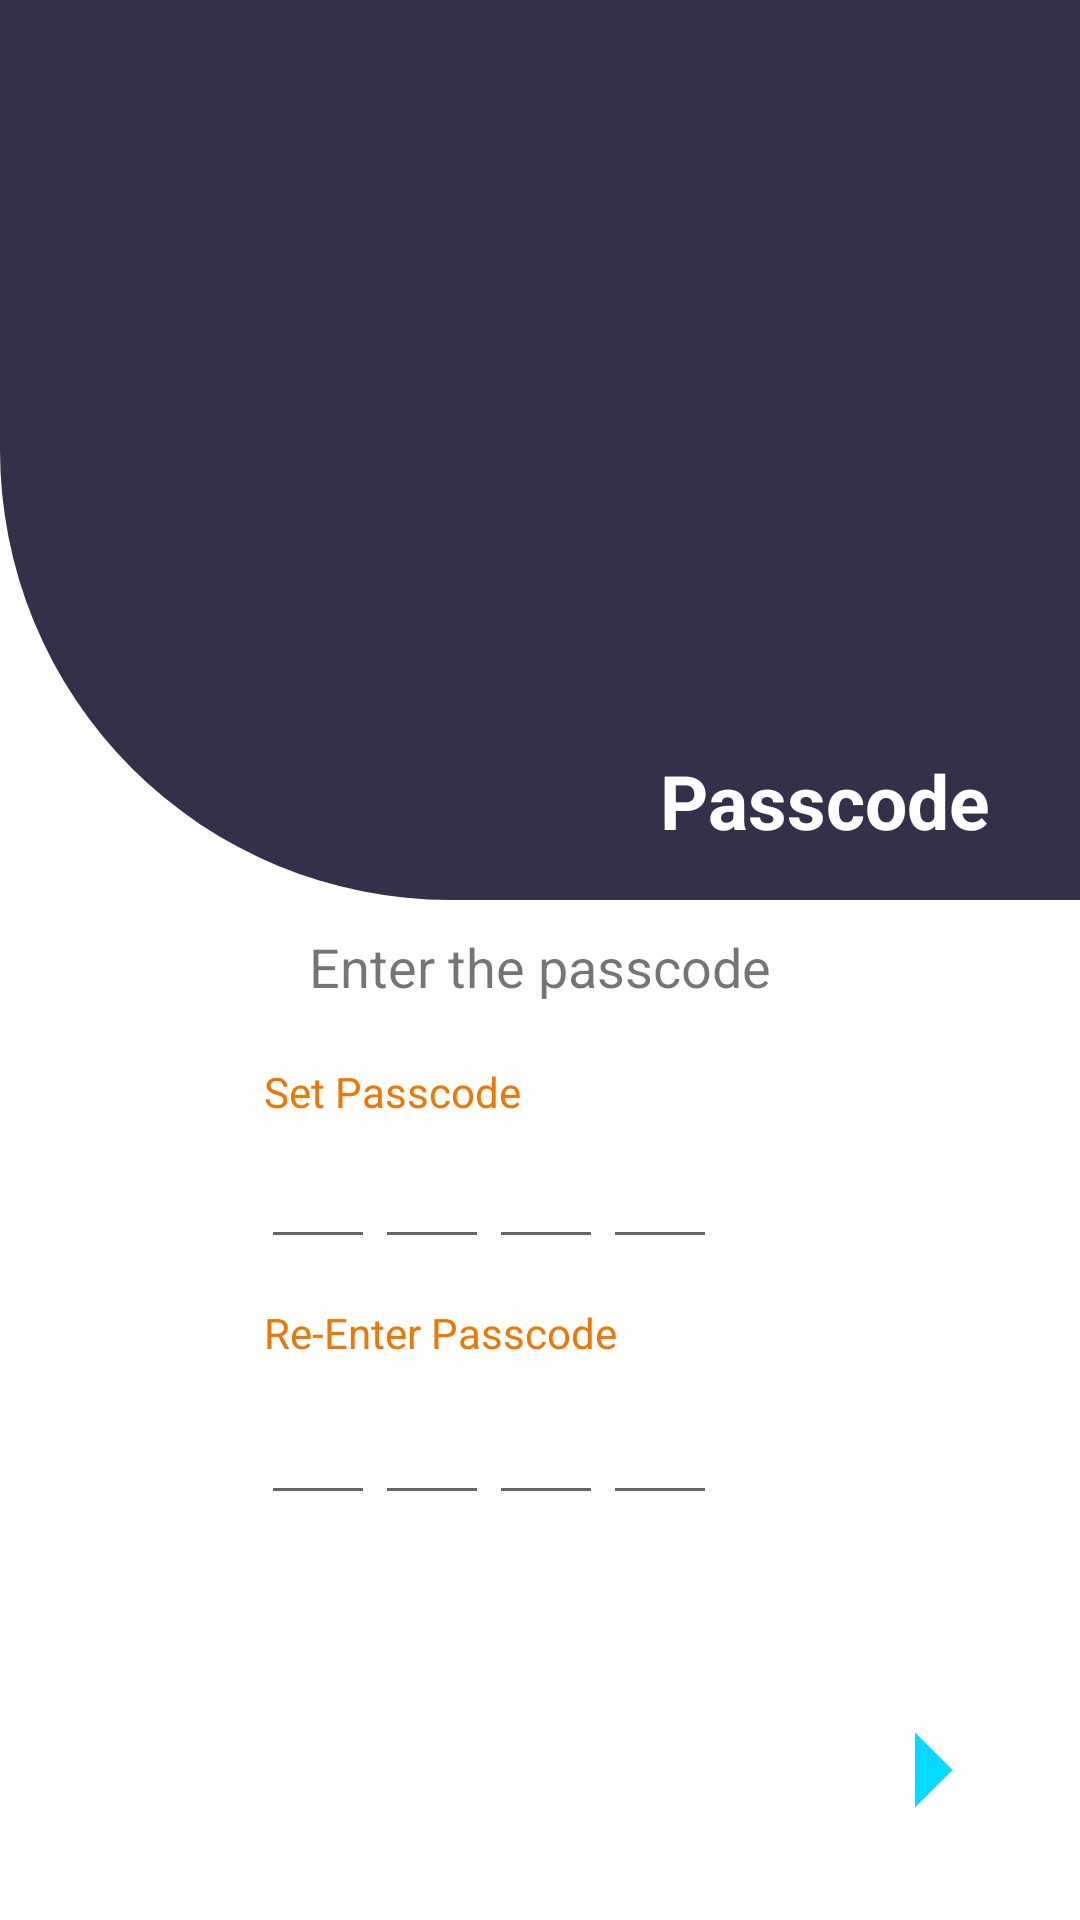

Icon click points for this 1080px×1920px phone screenshot, format point (x, y):
arrow right: point (934, 1770)
